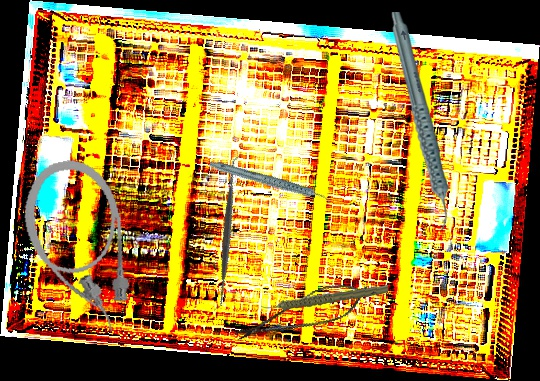Cannula: (13, 151, 145, 345)
Handpiece: (390, 12, 449, 230), (207, 137, 333, 229), (260, 273, 389, 321)
Micro Scissor: (230, 272, 376, 355)
Spatula Surgical: (149, 154, 306, 311)
